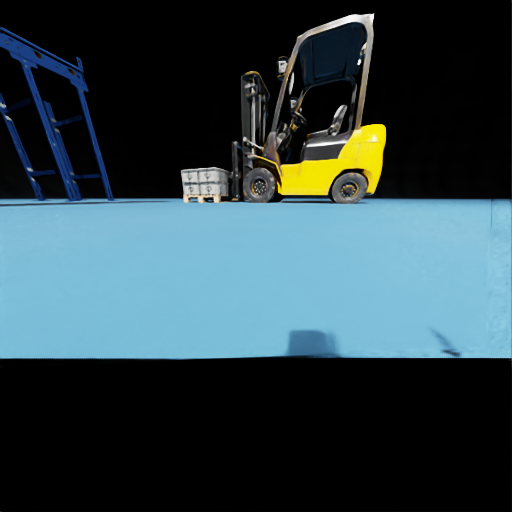transportation_area: (199, 182, 232, 194), (21, 45, 22, 46)
